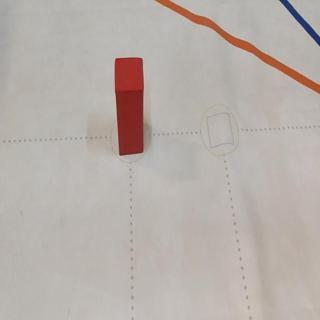redbox: (114, 57, 145, 157)
